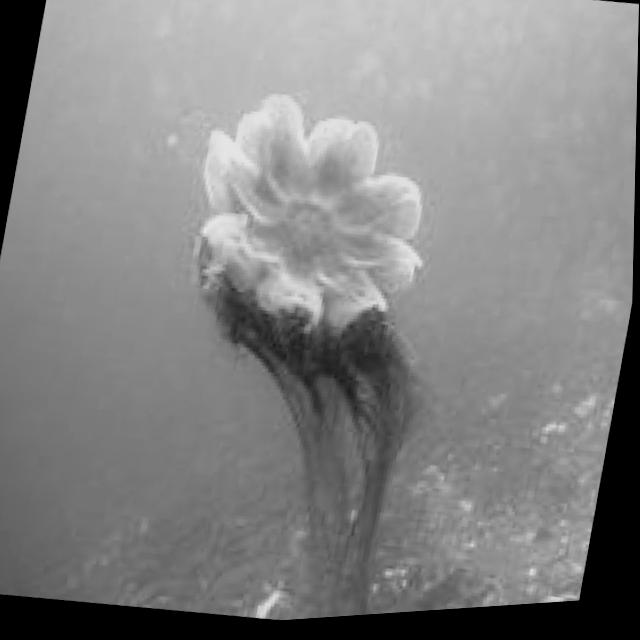Jellyfish: (129, 74, 488, 633)
